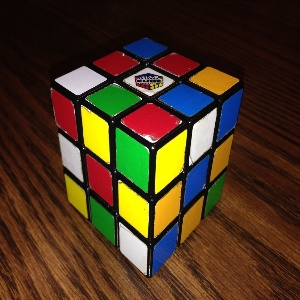cube: (49, 38, 244, 279)
